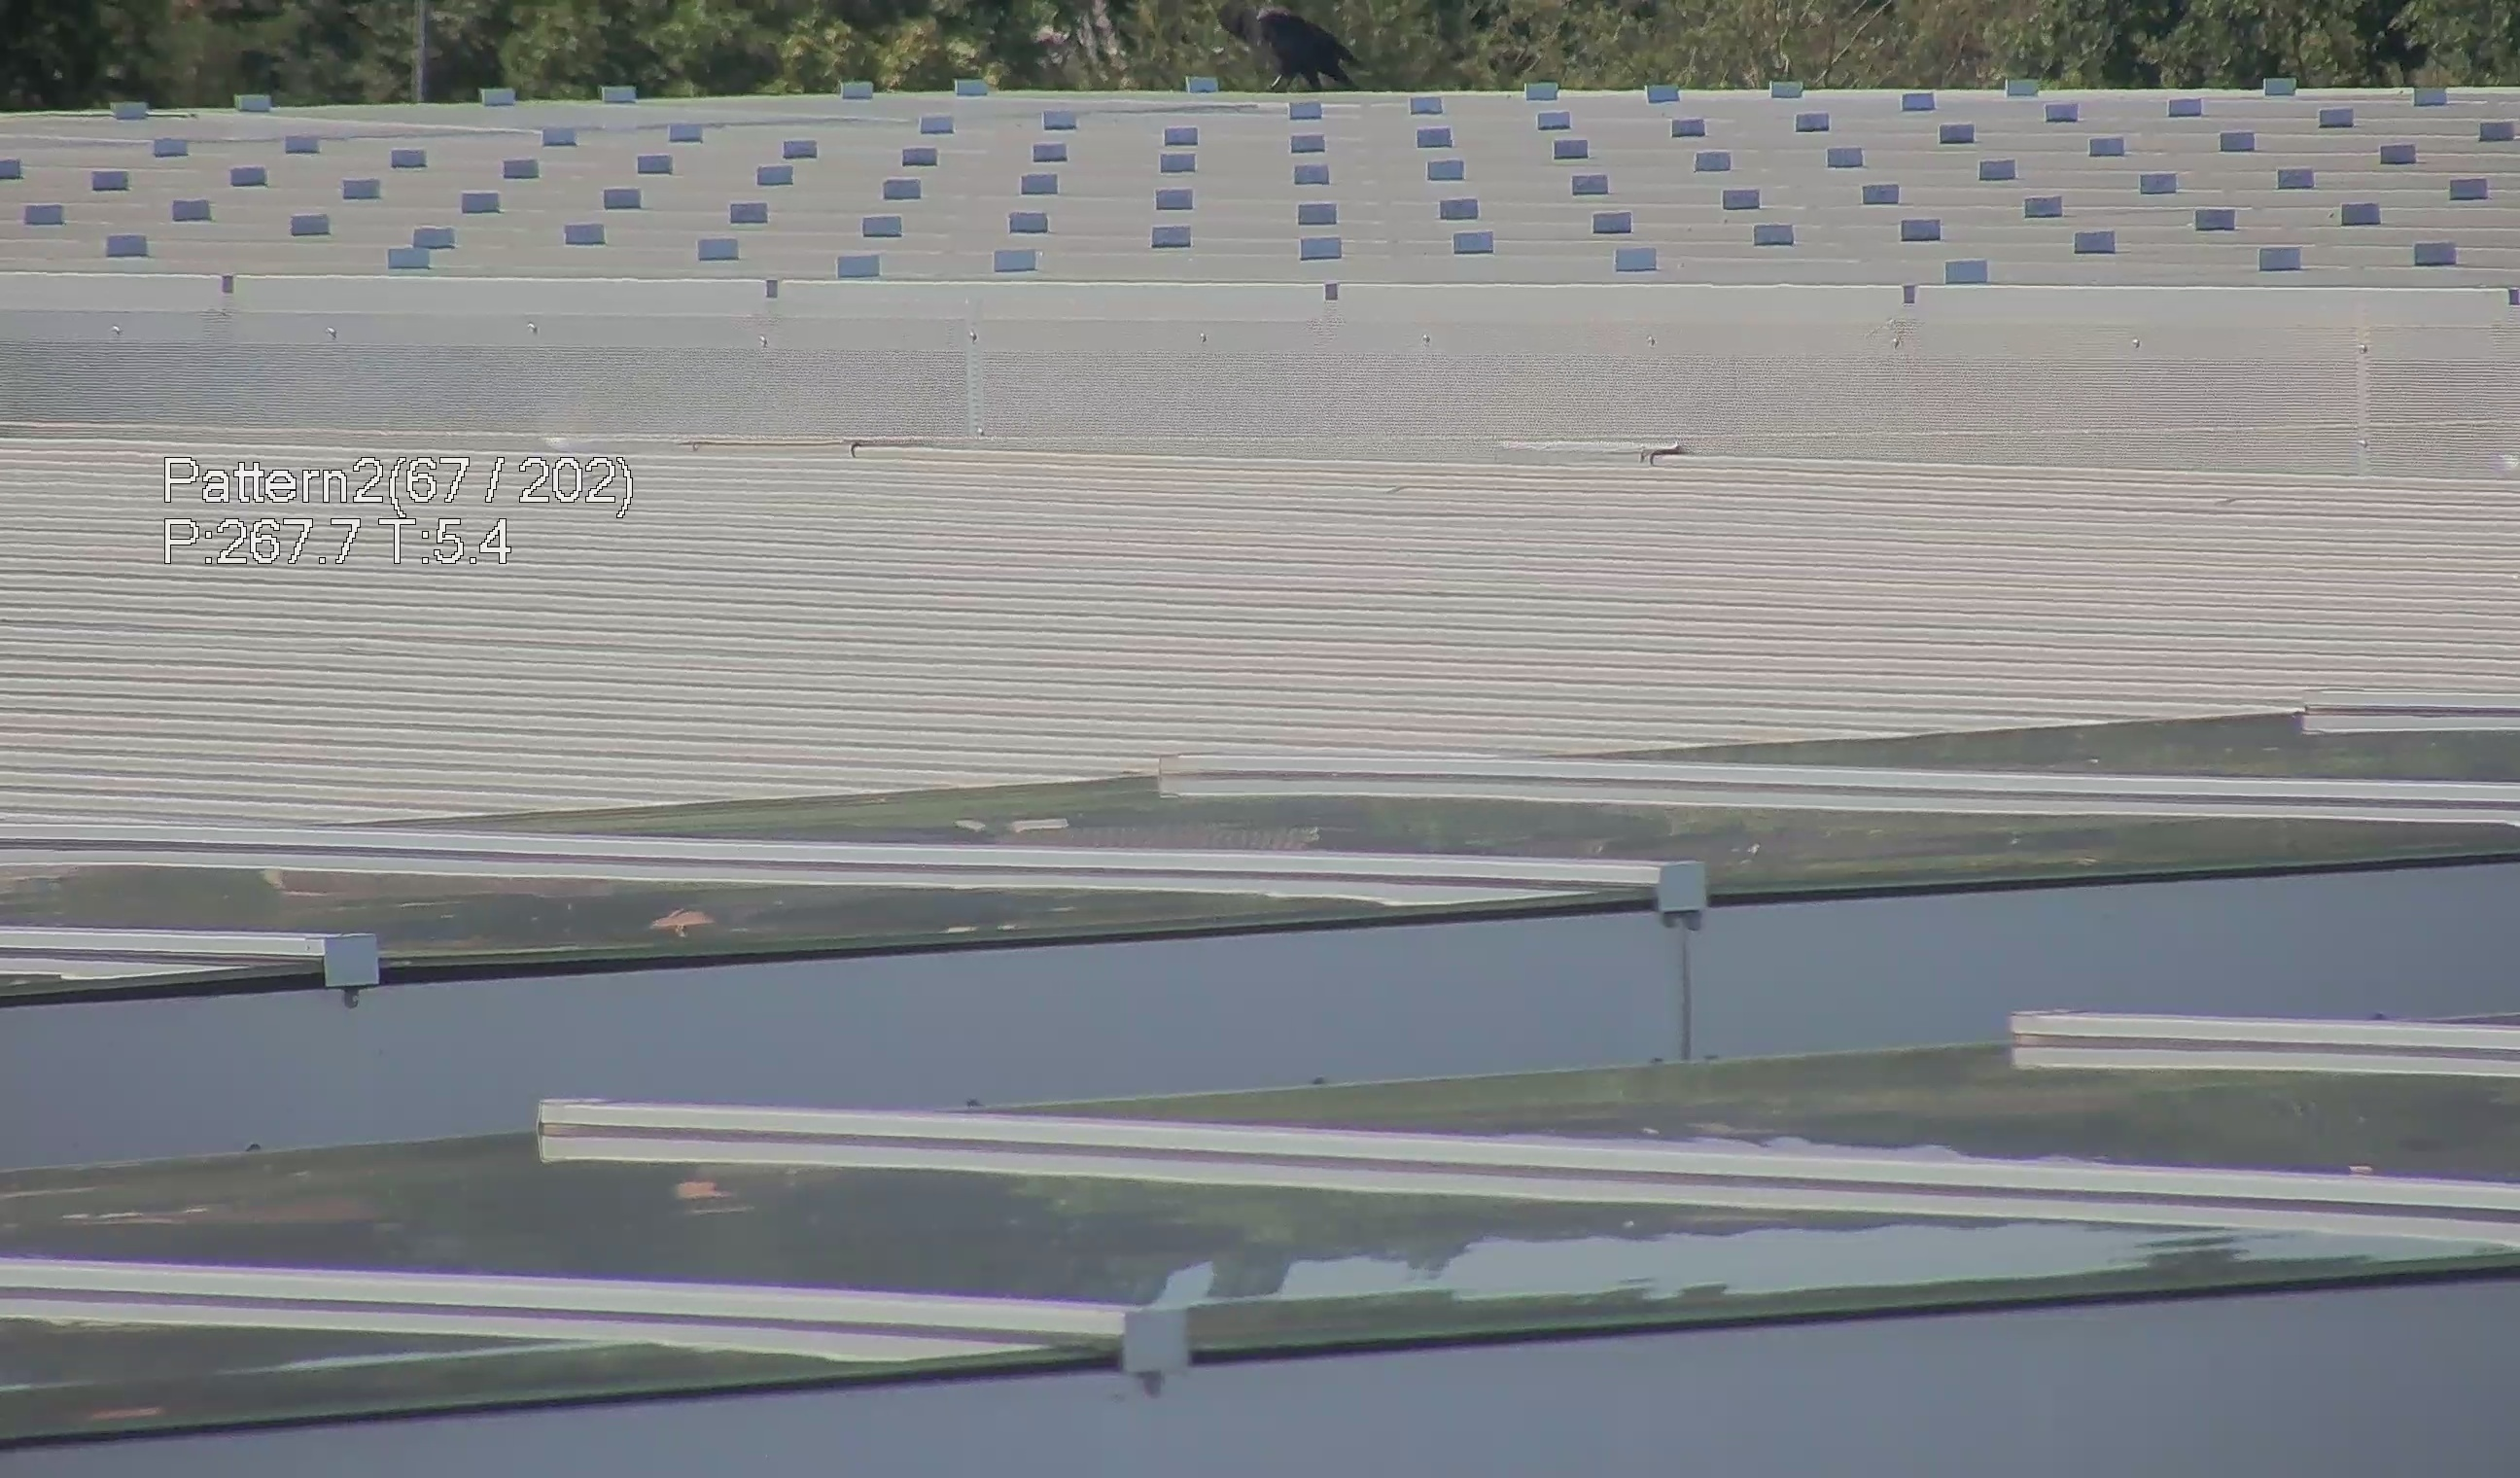Pigeon: (1217, 2, 1363, 86)
